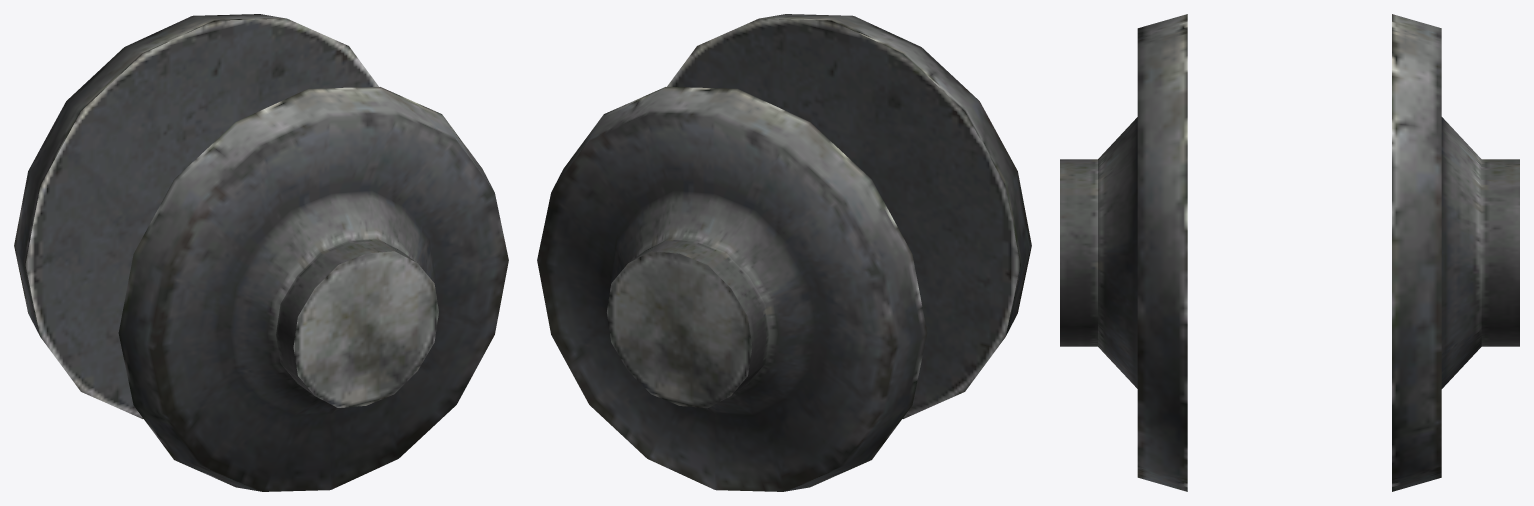
The model's file is doorKnob.FBX.
3 renders of one model, left to right at view 1: azimuth 30°, elevation 25°; view 2: azimuth 150°, elevation 25°; view 3: azimuth 270°, elevation 25°, orthographic. The views are drawn at different scales.
Parts seen in each view (by area): view 1: SM_DoorKnobBase; view 2: SM_DoorKnobBase; view 3: SM_DoorKnobBase.
Part boxes in pixels (x1,y1,x2,y2): SM_DoorKnobBase: (14,14,508,491); SM_DoorKnobBase: (537,14,1031,491); SM_DoorKnobBase: (1060,14,1519,491).
Bounding box in the file's own units: 10.48 × 10.48 × 10.05.
1 material, 1 textured.
